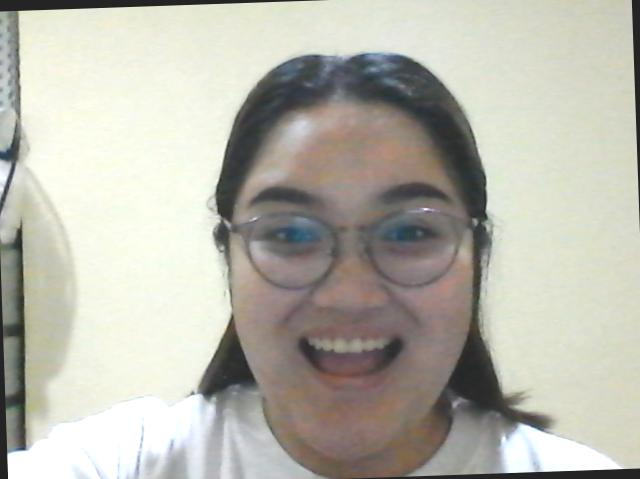senang: (222, 108, 482, 435)
